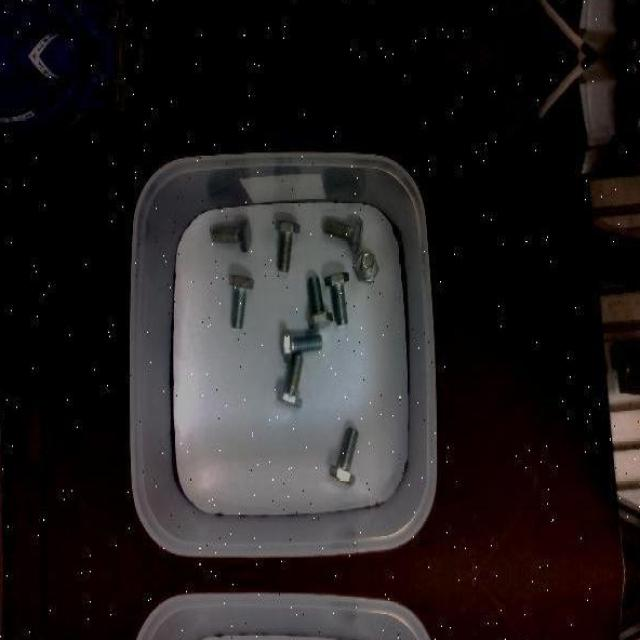screw: (330, 426, 359, 485), (277, 351, 304, 406), (211, 218, 252, 253), (281, 328, 323, 362), (308, 274, 334, 328), (324, 271, 350, 325), (324, 218, 364, 253), (229, 275, 255, 328), (276, 220, 302, 272), (354, 251, 380, 283)
